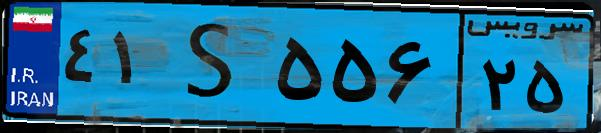1: (110, 28, 158, 98)
2: (475, 38, 525, 113)
4: (57, 26, 110, 100)
5: (270, 28, 330, 110), (330, 28, 385, 110), (525, 38, 570, 115)
6: (385, 28, 445, 110)
S: (158, 12, 270, 120)
